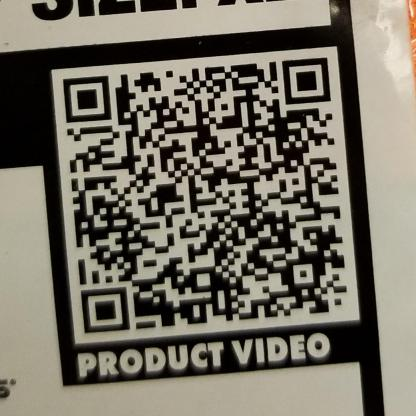qr: (57, 54, 355, 337)
